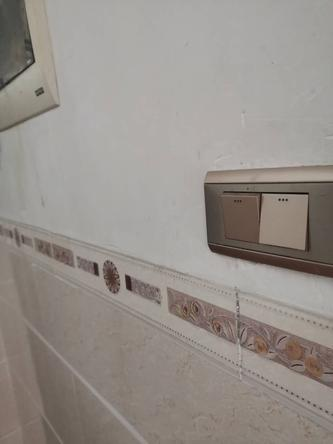switch: (256, 189, 316, 252), (218, 188, 265, 244)
